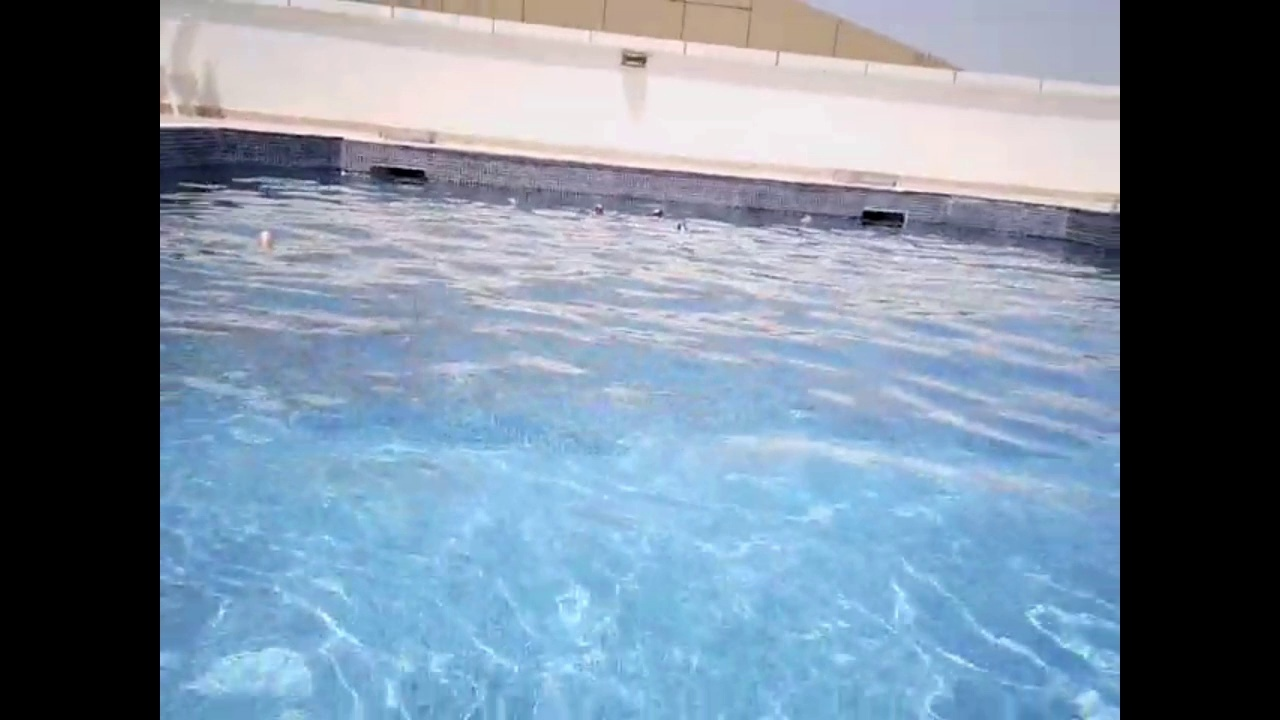debris: (252, 226, 276, 255), (643, 204, 670, 222), (796, 207, 817, 228), (671, 217, 692, 236), (590, 199, 606, 218), (501, 195, 520, 208)
